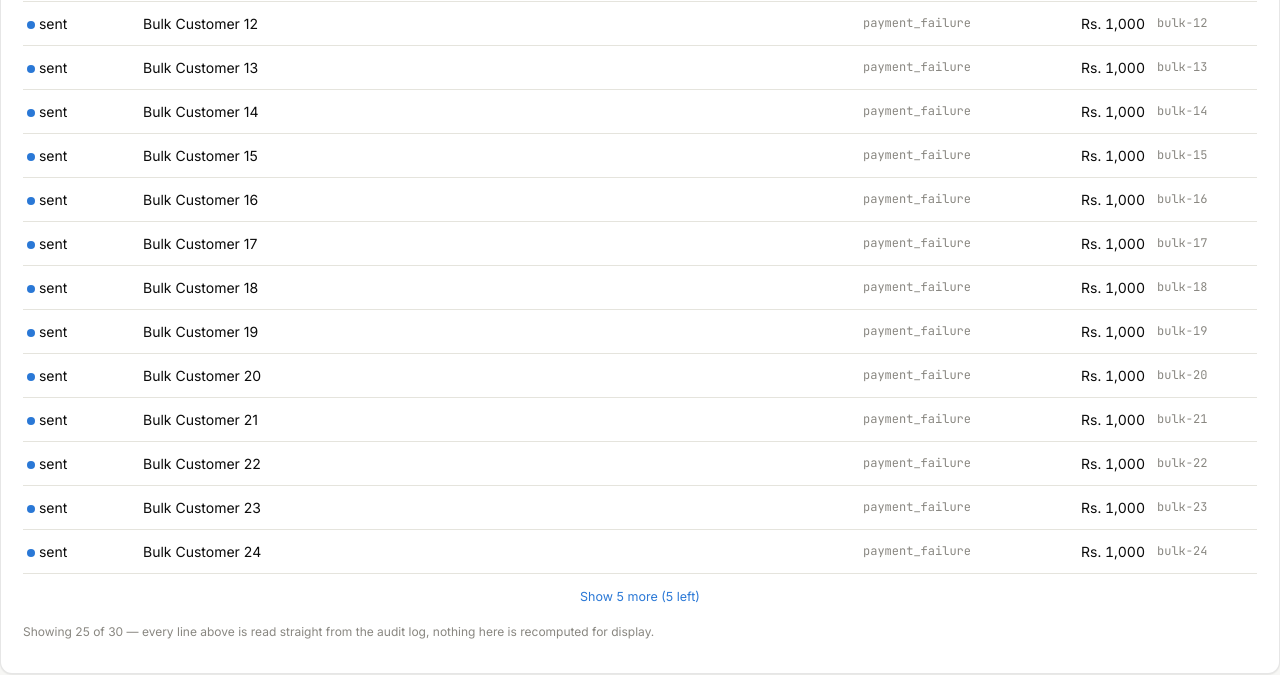
it: CaseList › resets pagination back to the first page when a filter changes
(page scrolled)
Click the button "Show 5 more (5 left)".
click(640, 597)  # box x1=578 y1=584 x2=702 y2=611
(page scrolled)
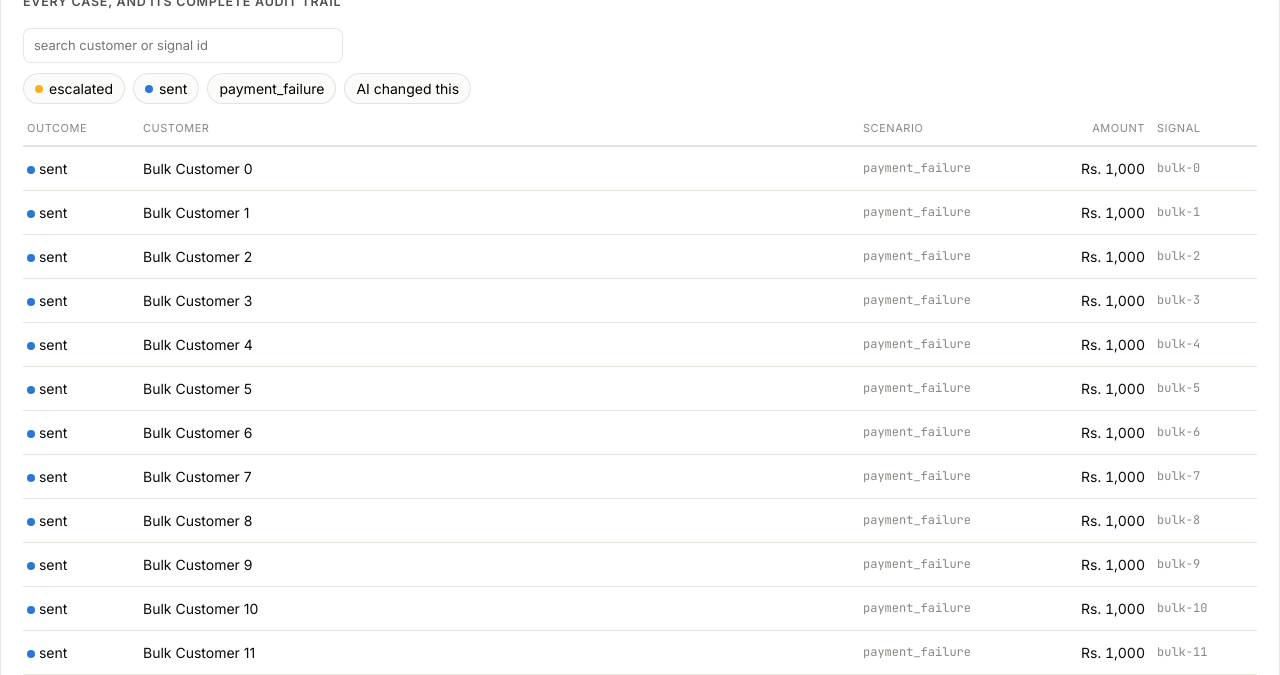
Click the button "escalated".
click(74, 89)  # box x1=23 y1=73 x2=125 y2=104
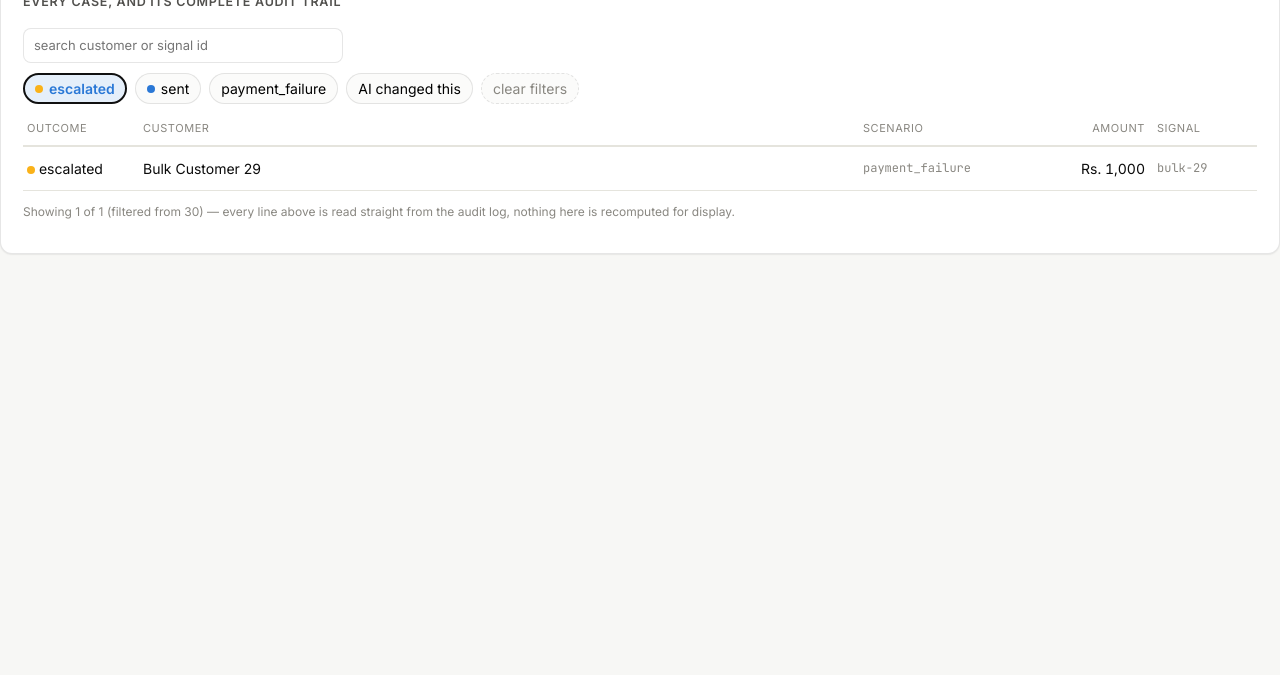
expect the text "Showing 1 of 1" is shown: met, box x1=23 y1=204 x2=735 y2=219
